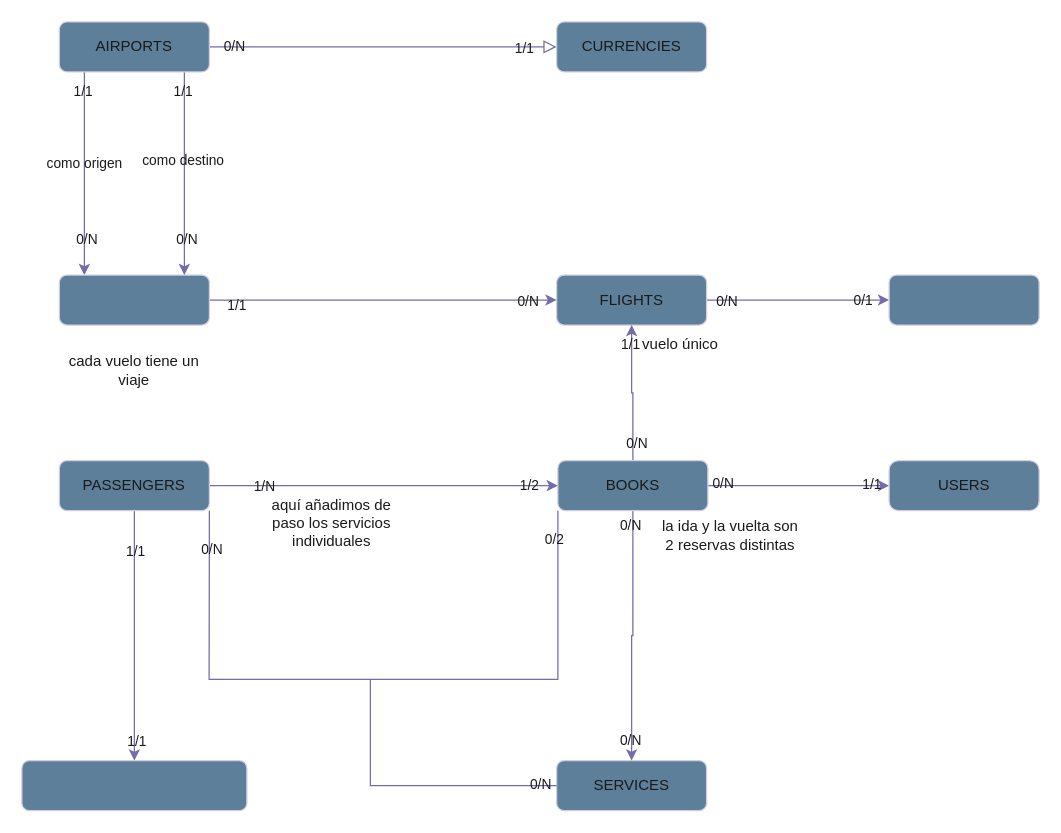
Image size: 1061x833. Some labels were removed from this diagram. The centre of each missing label's shape, as x and y in pixels:
"ADDITIONAL_INFORMATIONS" belongs at (x=134, y=785).
"AIRPLANES" belongs at (x=963, y=299).
"ITINERARIES" belongs at (x=133, y=299).
